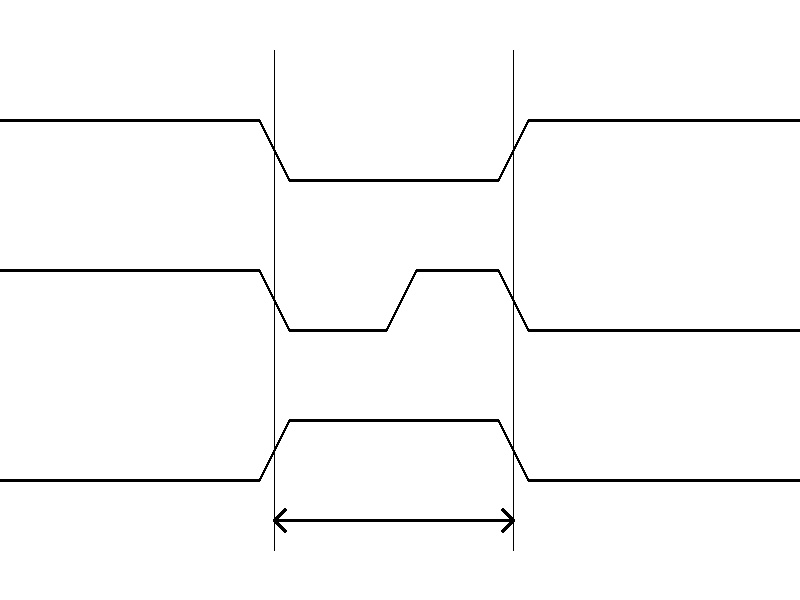double_arrow: (274, 505, 513, 535)
